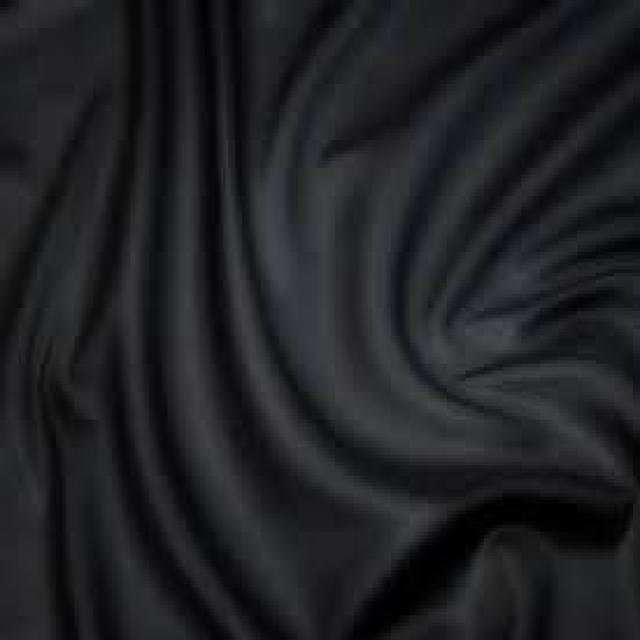Crease: (448, 44, 622, 319), (114, 59, 256, 328)
